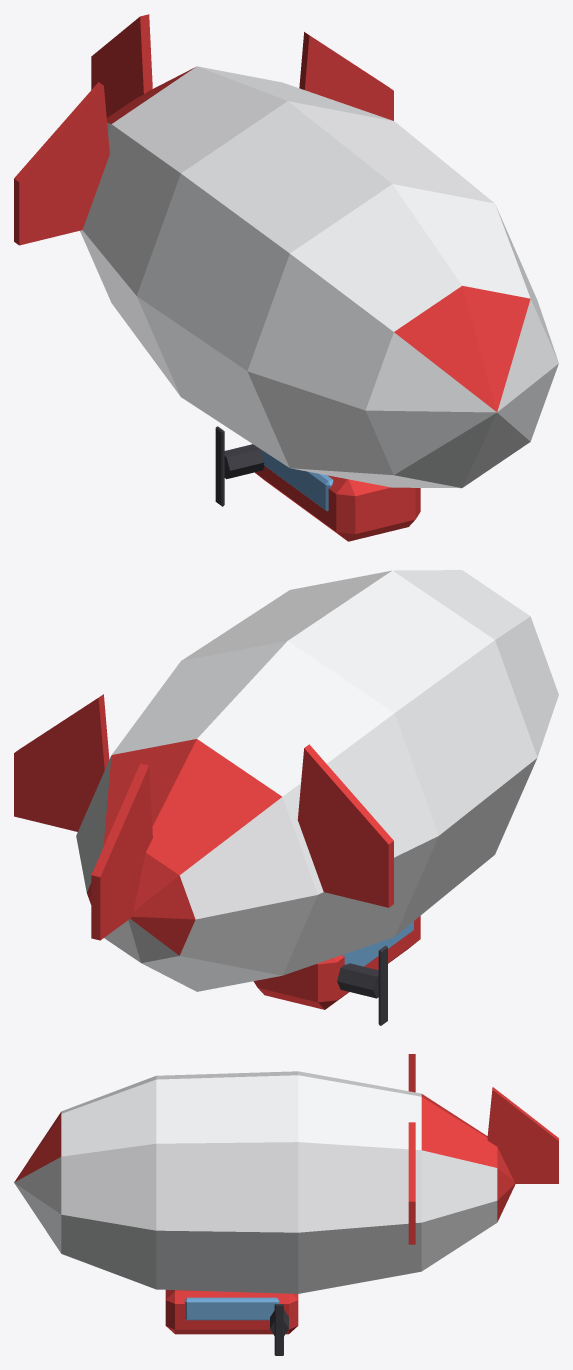
File: Blimp.fbx
3 views of the same model, one above another, from view 1: azimuth 30°, elevation 25°; view 2: azimuth 150°, elevation 25°; view 3: azimuth 270°, elevation 25° (orthographic). The views are drawn at different scales.
Visible parts, largest first — view 1: Blimp, Blimp_Propeller; view 2: Blimp, Blimp_Propeller; view 3: Blimp, Blimp_Propeller.
Part boxes in pixels (x1,y1,x2,y2): Blimp: (14, 14, 558, 541); Blimp_Propeller: (215, 426, 264, 506); Blimp: (14, 570, 558, 1009); Blimp_Propeller: (337, 945, 387, 1025); Blimp: (14, 1054, 558, 1334); Blimp_Propeller: (270, 1304, 288, 1355).
Size of the model in its own units: 6.2 by 5.9 by 11.5.
1 material, 1 textured.
